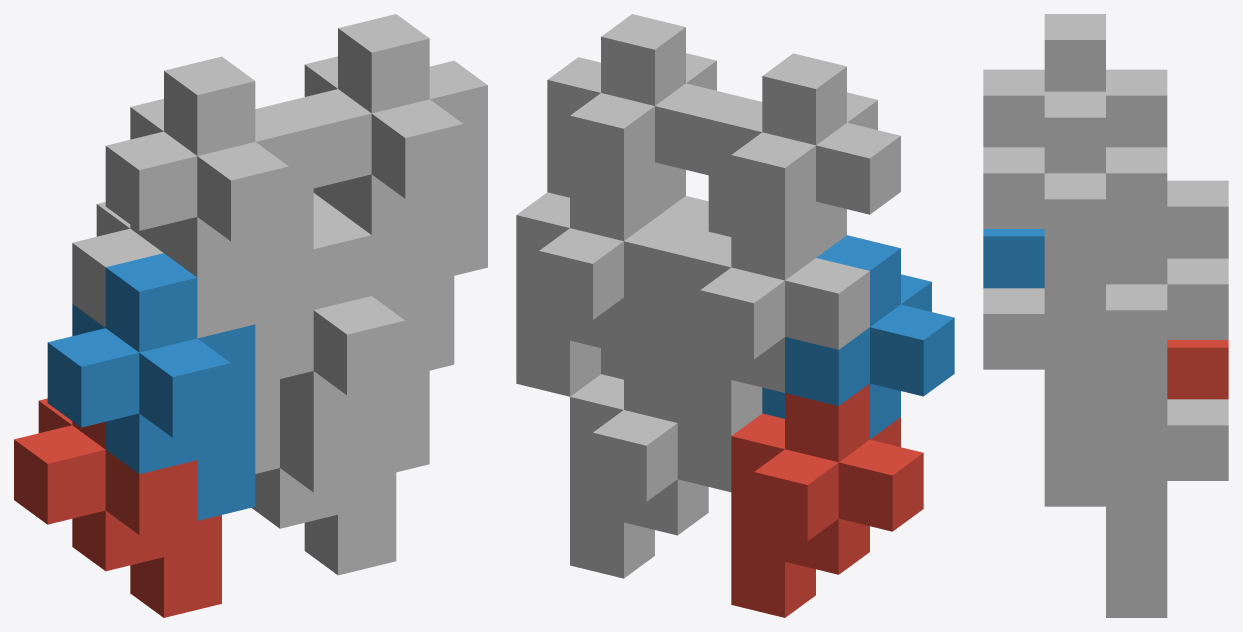
File: tiling.obj
3 views of the same model, side by side, from view 1: azimuth 30°, elevation 25°; view 2: azimuth 150°, elevation 25°; view 3: azimuth 270°, elevation 25° (orthographic). The views are drawn at different scales.
Parts seen in each view (by area): view 1: copy_1_domain_4, copy_1_domain_2, copy_1_domain_8, copy_1_domain_6, copy_1_domain_1, copy_1_domain_5, copy_1_domain_3, copy_1_domain_7; view 2: copy_1_domain_1, copy_1_domain_3, copy_1_domain_7, copy_1_domain_4, copy_1_domain_5, copy_1_domain_8, copy_1_domain_2, copy_1_domain_6; view 3: copy_1_domain_8, copy_1_domain_7, copy_1_domain_4, copy_1_domain_5, copy_1_domain_6, copy_1_domain_3, copy_1_domain_1, copy_1_domain_2.
Part boxes in pixels (x1,y1,x2,y2): copy_1_domain_4: [105, 56, 313, 324]; copy_1_domain_2: [47, 253, 255, 520]; copy_1_domain_8: [280, 14, 487, 281]; copy_1_domain_6: [255, 210, 429, 478]; copy_1_domain_1: [14, 398, 221, 617]; copy_1_domain_5: [251, 407, 396, 575]; copy_1_domain_3: [72, 202, 279, 412]; copy_1_domain_7: [313, 182, 454, 370]; copy_1_domain_1: [731, 383, 923, 617]; copy_1_domain_3: [677, 202, 869, 435]; copy_1_domain_7: [516, 162, 707, 396]; copy_1_domain_4: [708, 53, 900, 257]; copy_1_domain_5: [570, 354, 731, 578]; copy_1_domain_8: [547, 14, 739, 217]; copy_1_domain_2: [762, 235, 954, 439]; copy_1_domain_6: [601, 196, 708, 379]; copy_1_domain_8: [983, 91, 1167, 365]; copy_1_domain_7: [1106, 229, 1228, 476]; copy_1_domain_4: [983, 14, 1167, 147]; copy_1_domain_5: [1106, 399, 1228, 617]; copy_1_domain_6: [983, 288, 1105, 506]; copy_1_domain_3: [1167, 180, 1228, 258]; copy_1_domain_1: [1167, 340, 1228, 399]; copy_1_domain_2: [983, 229, 1044, 288].
Bounding box in the file's own units: 7 × 9 × 4.
